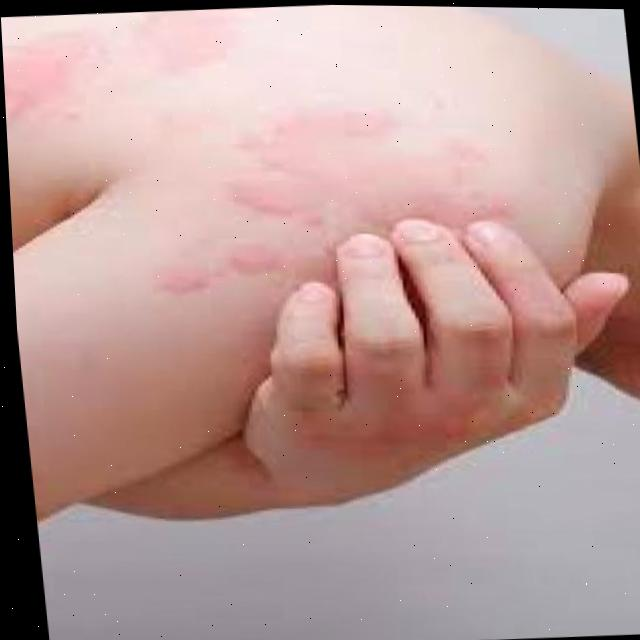Eczema: (183, 119, 587, 473), (0, 5, 238, 94)
